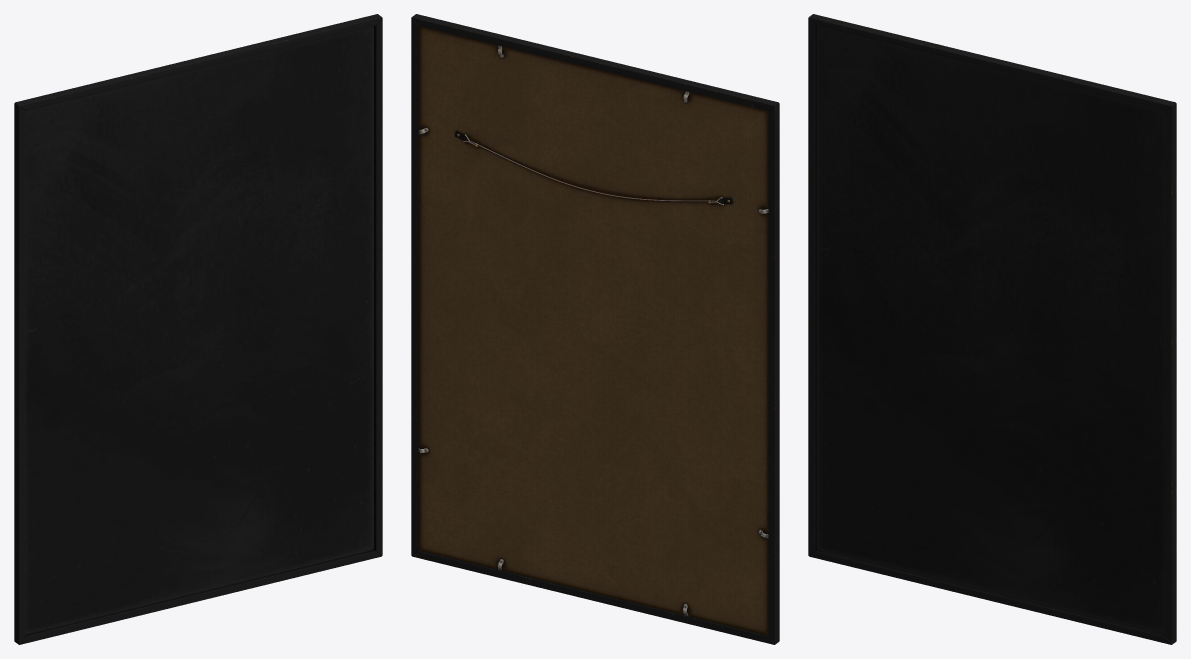
The model's file is hanging_picture_frame_01.glb.
3 views of the same model, side by side, from view 1: azimuth 30°, elevation 25°; view 2: azimuth 150°, elevation 25°; view 3: azimuth 330°, elevation 25° (orthographic).
Parts seen in each view (by area): view 1: hanging_picture_frame_01; view 2: hanging_picture_frame_01; view 3: hanging_picture_frame_01.
Part boxes in pixels (<box>): hanging_picture_frame_01: <box>14,14,382,644</box>; hanging_picture_frame_01: <box>411,14,779,644</box>; hanging_picture_frame_01: <box>808,14,1176,644</box>.
Bounding box in the file's own units: 0.594 × 0.841 × 0.0157.
Materials: 3 (3 with a texture image).
